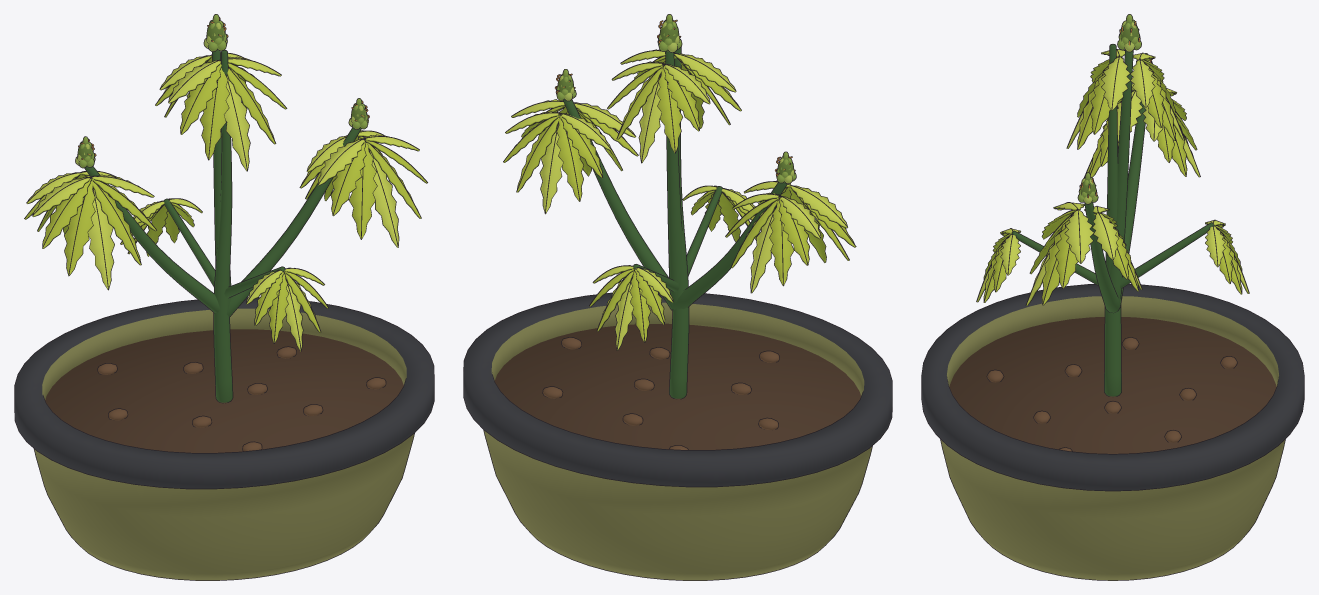
The model's file is cannabis_eventail_growing_toon.glb.
3 renders of one model, left to right at view 1: azimuth 30°, elevation 25°; view 2: azimuth 150°, elevation 25°; view 3: azimuth 270°, elevation 25°, orthographic. The views are drawn at different scales.
Visible parts, largest first — view 1: cannabis_eventail_growing_Geometry; view 2: cannabis_eventail_growing_Geometry; view 3: cannabis_eventail_growing_Geometry.
Boxes of the visible parts, x1=… form: cannabis_eventail_growing_Geometry: x1=14, y1=14, x2=434, y2=580; cannabis_eventail_growing_Geometry: x1=463, y1=14, x2=892, y2=580; cannabis_eventail_growing_Geometry: x1=921, y1=14, x2=1304, y2=580.
Size of the model in its own units: 0.5212 by 0.6647 by 0.4612.
